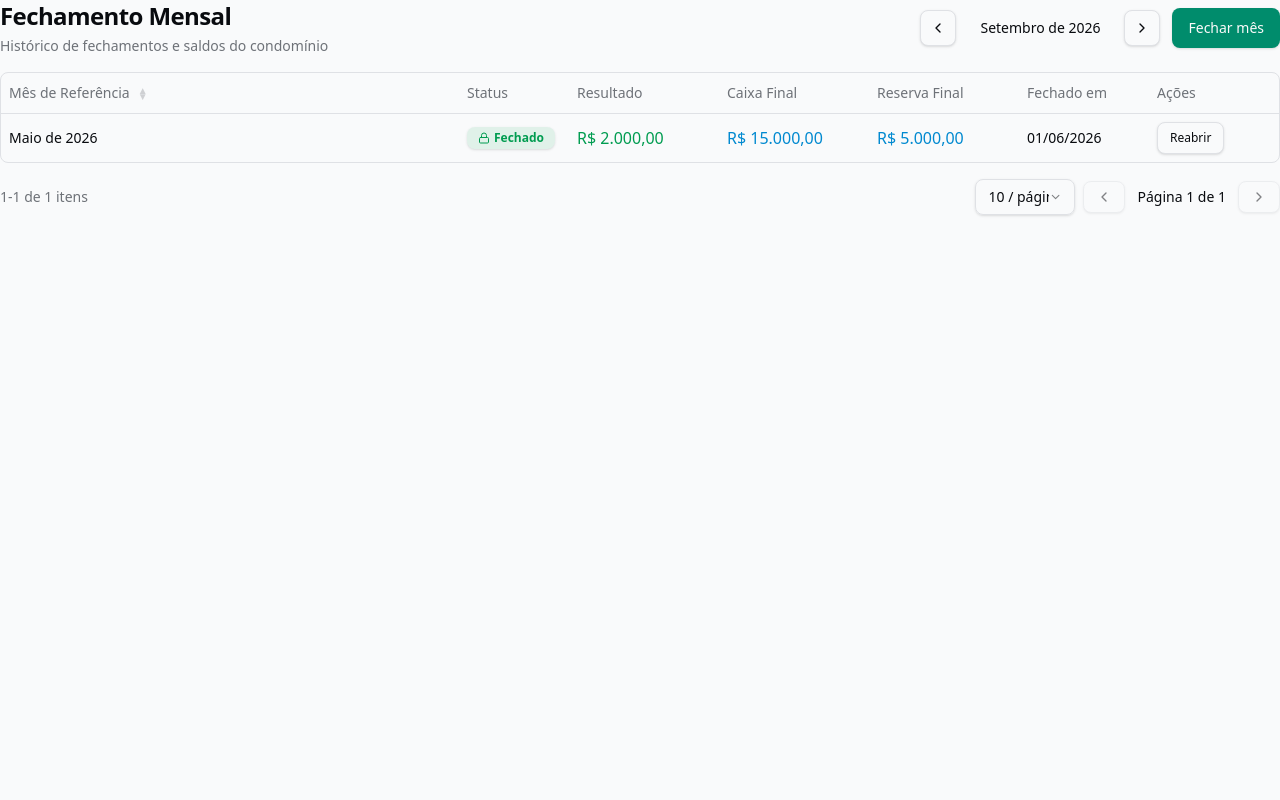
Scenario: MonthClosePage — close preflight › keeps the reopen dialog untouched (no preflight, no checkbox)
Click the button "Reabrir" at {"x": 1191, "y": 138}, box [1157,122,1224,154]
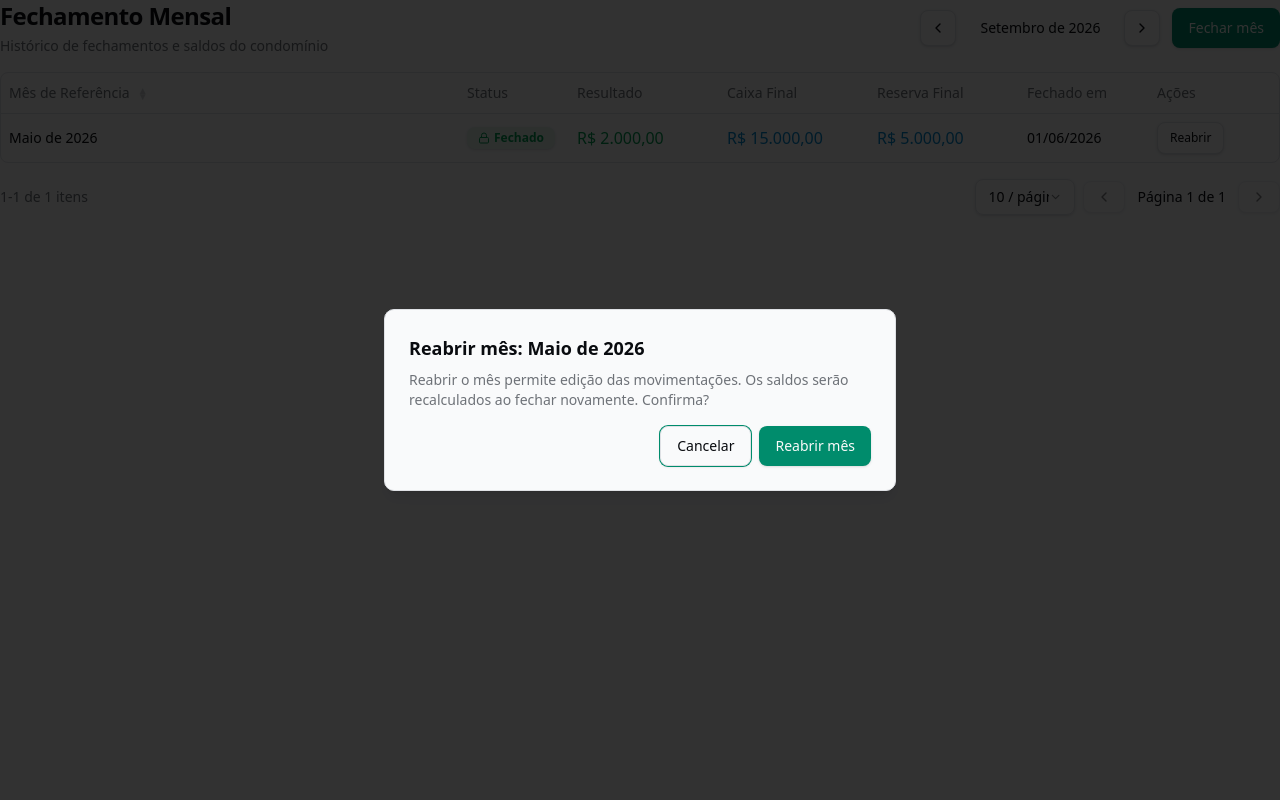
Now the button "Reabrir mês" is enabled, box [759,426,871,466]
